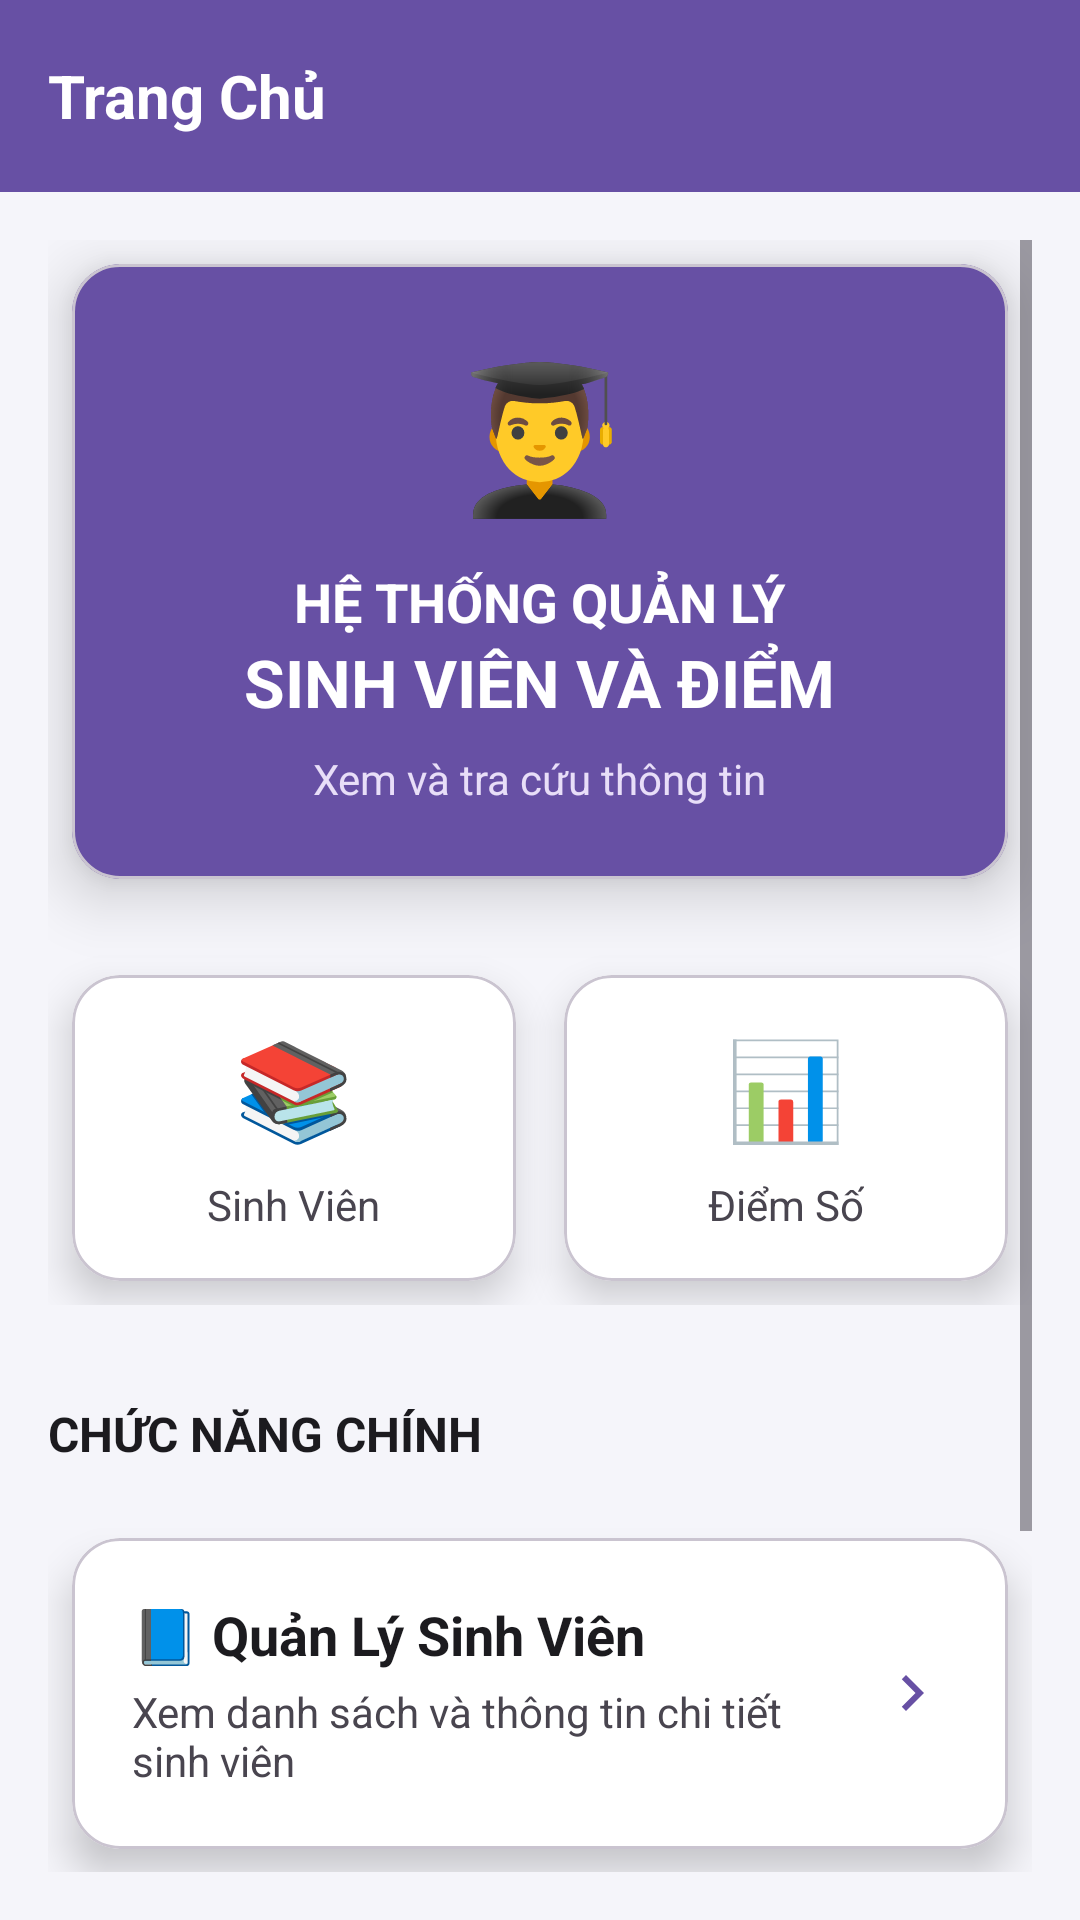

Where to tap for icons on this 1080px x 1920px app screen, as point (x, y):
arrow right: point (913, 1693)
